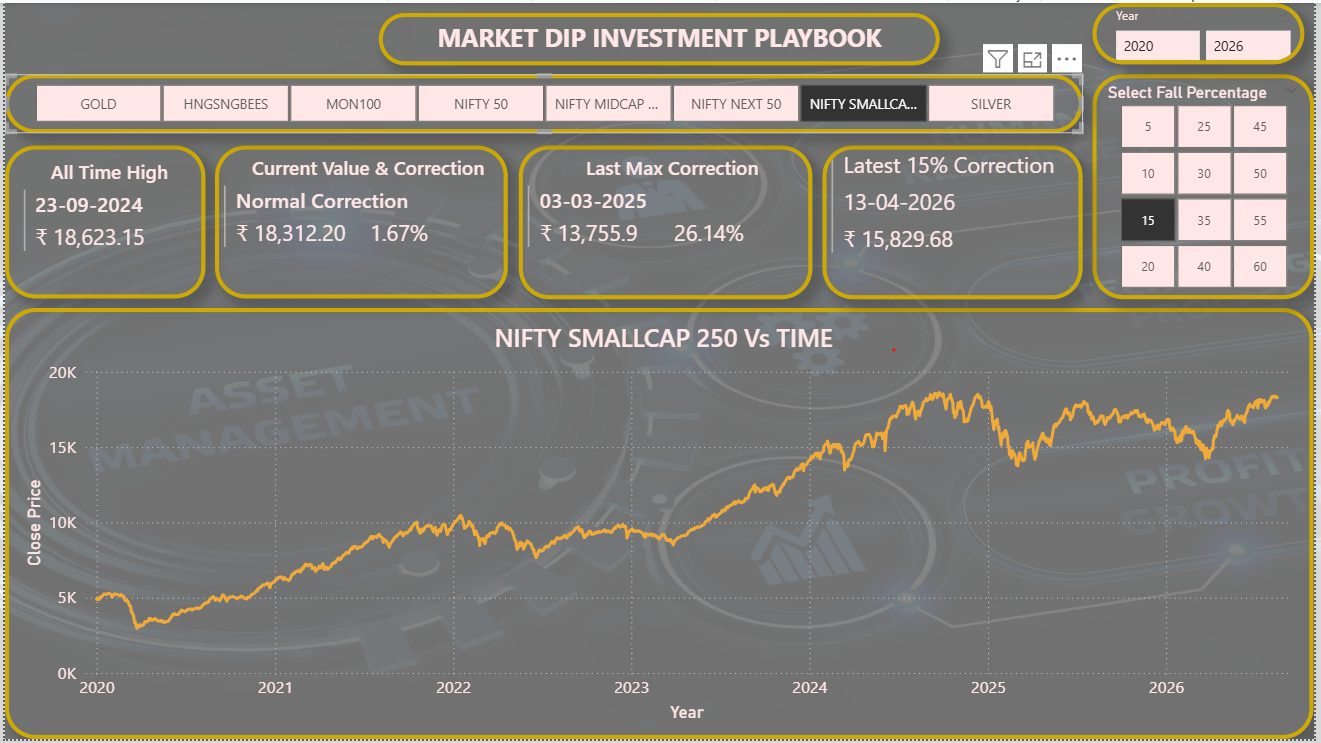

This screenshot's page, from the dashboard's own definition file:
{"tool":"powerbi","page":{"name":"Dashboard","canvas":[1280,720],"ordinal":0},"visuals":[{"type":"slicer","fields":{"Values":["Commodities.Asset Class"]},"box":[0,69.7,1054.1,57.5],"z":0},{"type":"multiRowCard","title":"All Time High","fields":{"Values":["Combine Data.Dt ATH","Combine Data.ATH"]},"box":[0,140,196.2,149.6],"z":1000},{"type":"multiRowCard","title":"Current Value & Correction","fields":{"Values":["Combine Data.Current Value","Combine Data.Current Correction","Combine Data.Play Book"]},"box":[205.8,140,286.8,149.6],"z":2000},{"type":"multiRowCard","title":"Last Max Correction","fields":{"Values":["Combine Data.dt max correction","Combine Data.Max correction","Combine Data.Max correction(%)"]},"box":[502.4,139.4,287.4,150.4],"z":3000},{"type":"lineChart","fields":{"Category":["Combine Data.DATE.Variation.Date Hierarchy.Year","Combine Data.DATE.Variation.Date Hierarchy.Quarter","Combine Data.DATE.Variation.Date Hierarchy.Month","Combine Data.DATE.Variation.Date Hierarchy.Day"],"Y":["Sum(Combine Data.ADJ. PRICE)"]},"box":[0,298.4,1280.3,421.9],"z":4000},{"type":"slicer","fields":{"Values":["Fall Percentage.Fall Percentage"]},"box":[1063.9,69.7,216.4,220.1],"z":5000},{"type":"multiRowCard","title":"Latest Correction","fields":{"Values":["Fall Percentage.Header","Combine Data.Date of Fall","Combine Data.Fall Value"]},"box":[799.5,139.4,254.3,150.4],"z":6000},{"type":"textbox","box":[365.5,9.8,549.1,51.4],"z":7000},{"type":"slicer","fields":{"Values":["Combine Data.DATE.Variation.Date Hierarchy.Year"]},"box":[1063.5,0,207.2,60.4],"z":8000}]}

Visuals, with their boxes in screenshot pixels (x1, y1, x2, y2), scaled from the page's 1280x720 canvas onto the 1321x743 screenshot:
slicer - Commodities.Asset Class: l=0, t=72, r=1088, b=131
"All Time High" multiRowCard: l=0, t=144, r=202, b=299
"Current Value & Correction" multiRowCard: l=212, t=144, r=508, b=299
"Last Max Correction" multiRowCard: l=518, t=144, r=815, b=299
lineChart - Combine Data.DATE.Variation.Date Hierarchy.Year x Combine Data.DATE.Variation.Date Hierarchy.Quarter: l=0, t=308, r=1320, b=742
slicer - Fall Percentage.Fall Percentage: l=1098, t=72, r=1320, b=299
"Latest Correction" multiRowCard: l=825, t=144, r=1088, b=299
textbox: l=377, t=10, r=944, b=63
slicer - Combine Data.DATE.Variation.Date Hierarchy.Year: l=1098, t=0, r=1311, b=62
